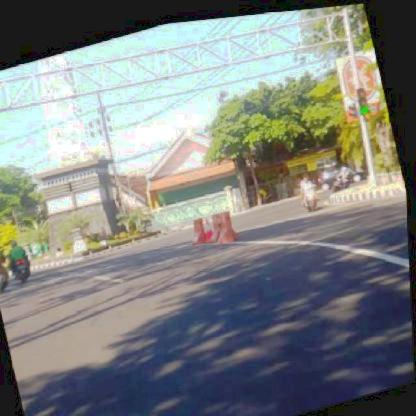Traffic Light -Green-: (358, 87, 375, 116), (1, 70, 2, 107)
